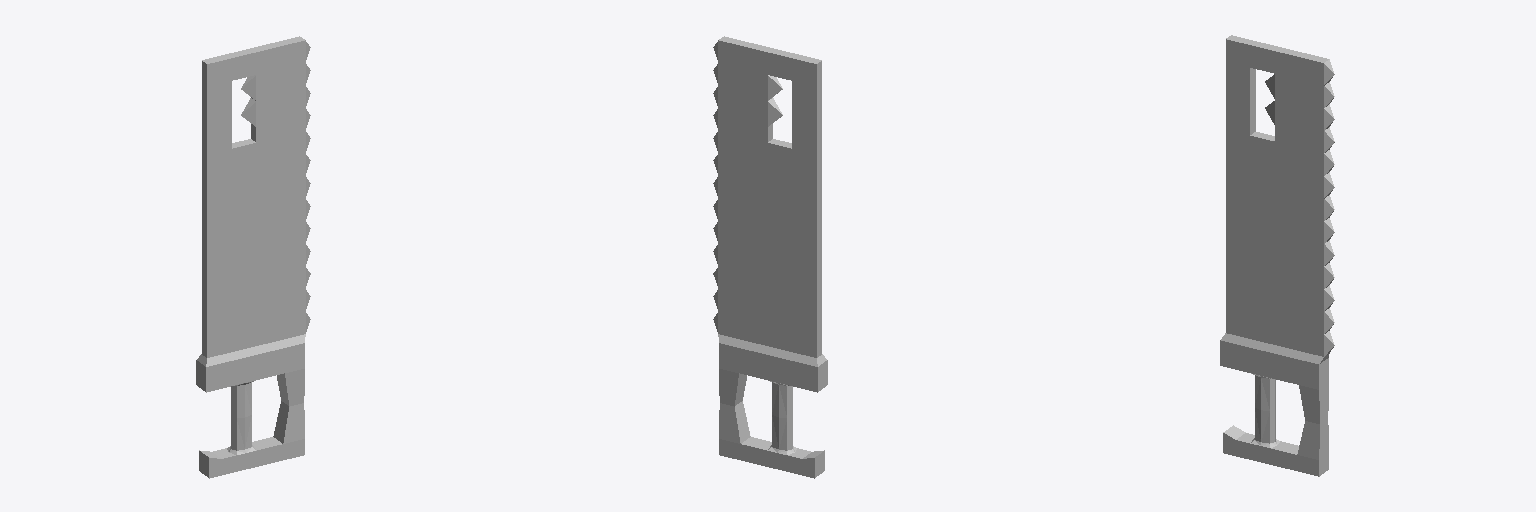
Rendered from Sword7_LowPoly.obj.
The picture shows the model from 3 angles: view 1: azimuth 30°, elevation 25°; view 2: azimuth 150°, elevation 25°; view 3: azimuth 330°, elevation 25°; orthographic projection.
Parts seen in each view (by area): view 1: Sword_007_Low_Poly_Cube.008; view 2: Sword_007_Low_Poly_Cube.008; view 3: Sword_007_Low_Poly_Cube.008.
Part boxes in pixels (bbox=[...]): Sword_007_Low_Poly_Cube.008: bbox=[196, 36, 310, 478]; Sword_007_Low_Poly_Cube.008: bbox=[713, 36, 827, 478]; Sword_007_Low_Poly_Cube.008: bbox=[1220, 35, 1334, 476].
Size of the model in its own units: 2.22 by 8 by 0.3506.